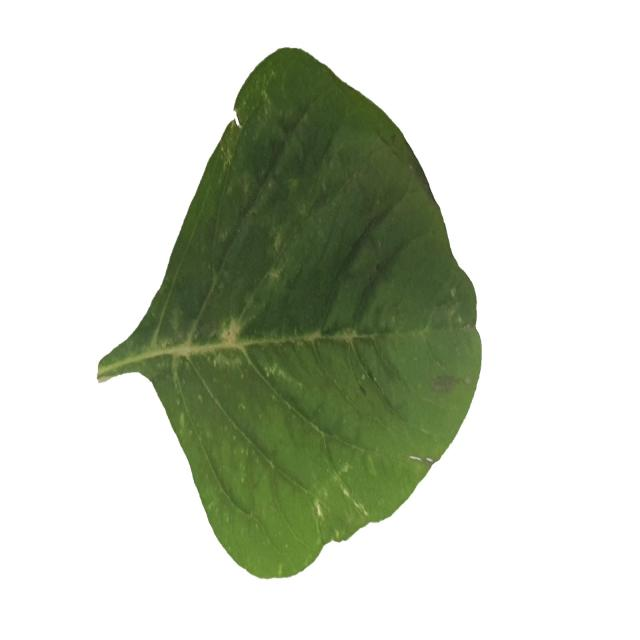Medicinal-Arive Dantu: (95, 46, 480, 580)
